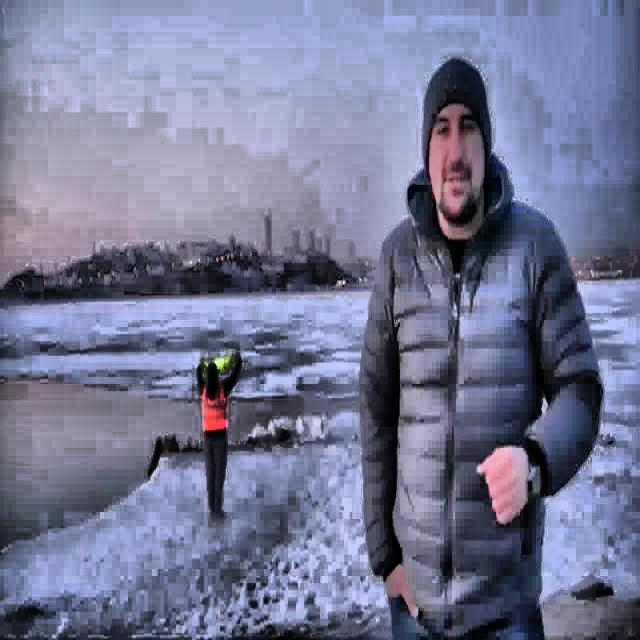safety_jacket: (202, 380, 226, 434), (198, 351, 238, 381)
